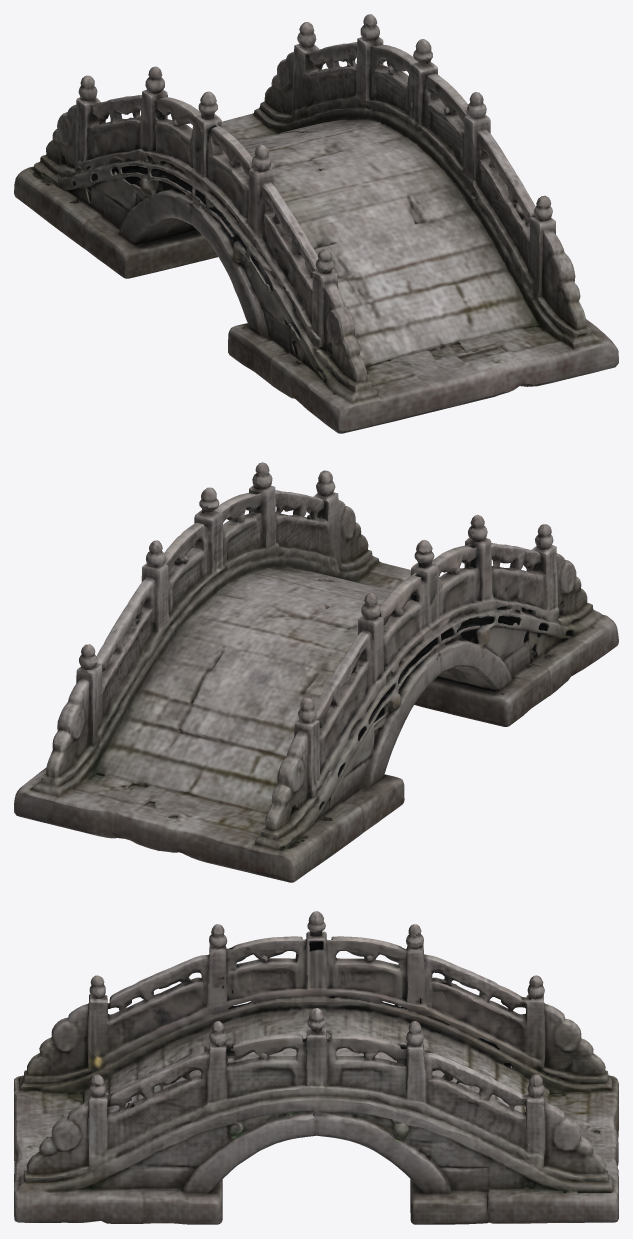
File: ARCH-010.glb
3 views of the same model, one above another, from view 1: azimuth 30°, elevation 25°; view 2: azimuth 150°, elevation 25°; view 3: azimuth 270°, elevation 25° (orthographic). The views are drawn at different scales.
Parts seen in each view (by area): view 1: world; view 2: world; view 3: world.
Part boxes in pixels (x1=…): world: x1=14, y1=14, x2=618, y2=433; world: x1=14, y1=462, x2=618, y2=882; world: x1=14, y1=911, x2=618, y2=1224.
Size of the model in its own units: 0.45 by 0.3427 by 0.9042.
1 material, 1 textured.
